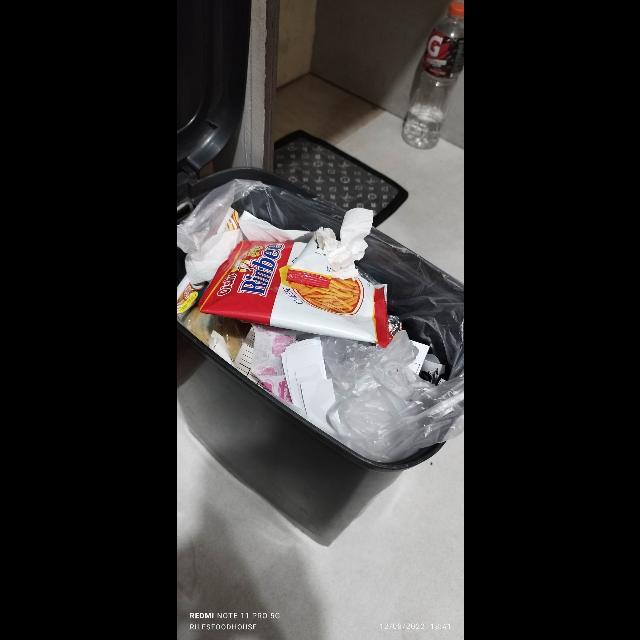paper: (184, 210, 310, 284), (280, 336, 335, 426), (317, 208, 373, 274)
plastic: (318, 329, 464, 463)
wrapper: (197, 237, 389, 348)
